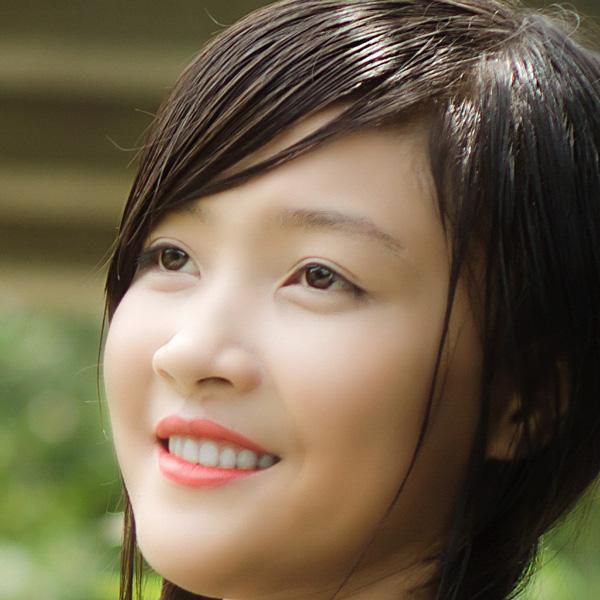Eyes: (275, 249, 373, 314), (136, 230, 209, 291)
